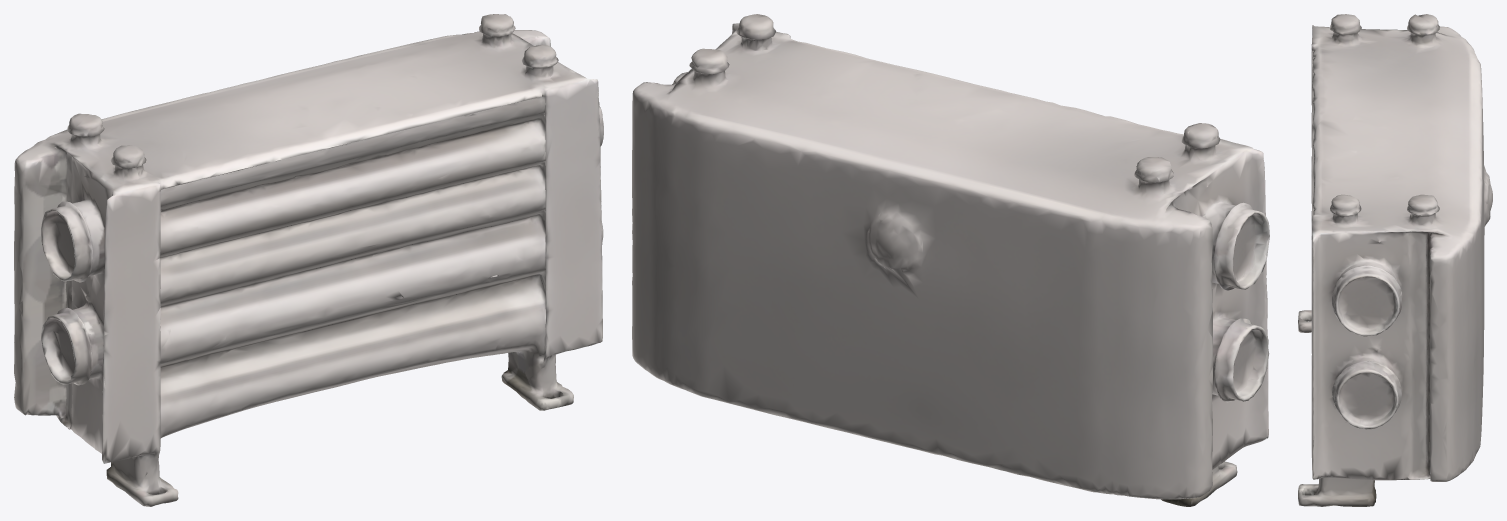
File: base_basic_pbr.glb
3 renders of one model, left to right at view 1: azimuth 30°, elevation 25°; view 2: azimuth 150°, elevation 25°; view 3: azimuth 270°, elevation 25°, orthographic. The views are drawn at different scales.
Parts seen in each view (by area): view 1: model; view 2: model; view 3: model.
Boxes of the visible parts, x1,y1,x2,y2 form: model: (14, 14, 603, 506); model: (632, 14, 1269, 506); model: (1298, 14, 1492, 506).
Size of the model in its own units: 1.9 by 1.16 by 0.6735.
1 material, 1 textured.
